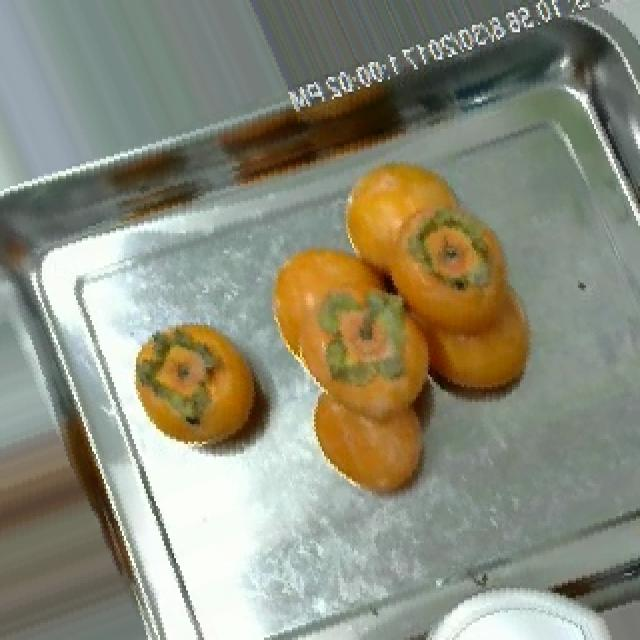Fruit: (252, 223, 430, 419), (122, 303, 290, 481), (294, 352, 454, 521)
